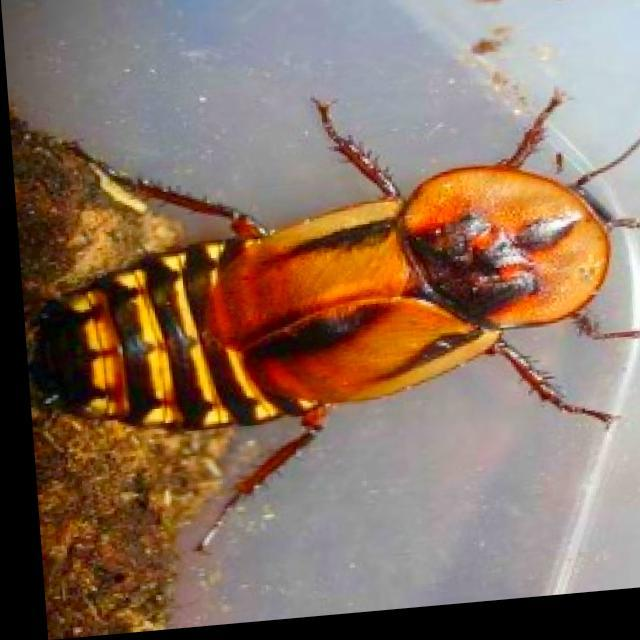cockroach: (24, 85, 630, 555)
